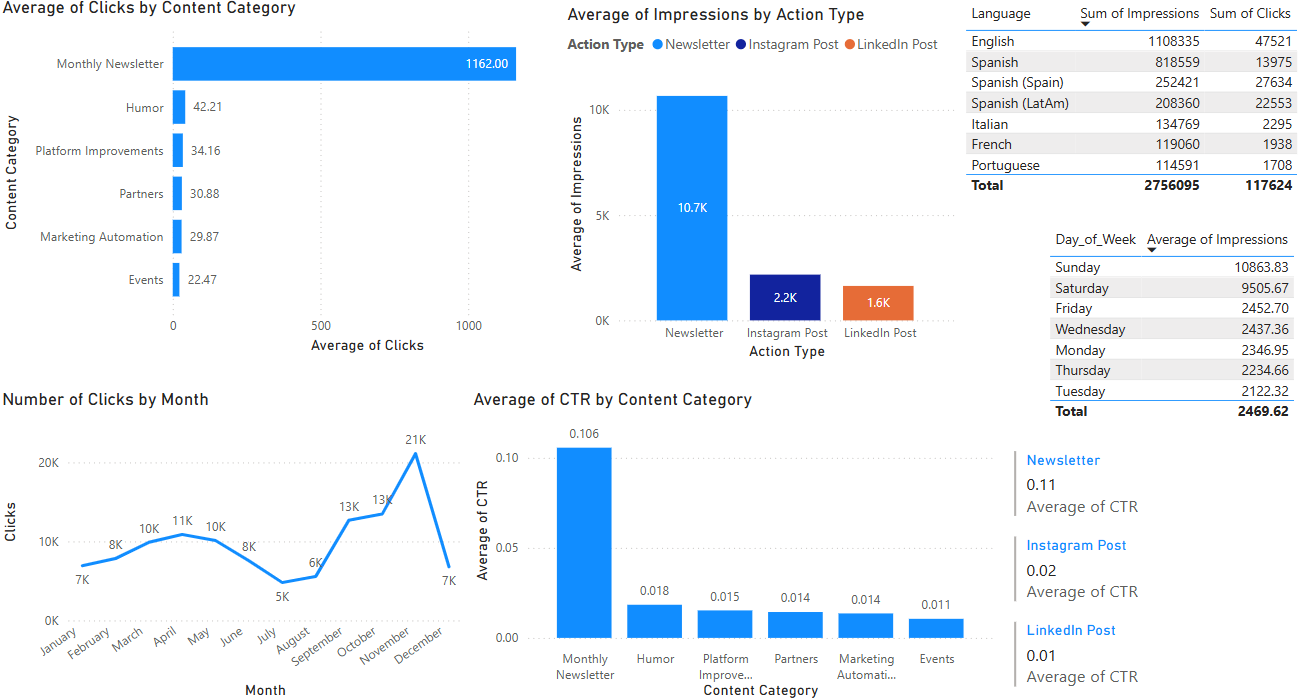

The dashboard page shown, as its layout file describes it:
{"tool":"powerbi","page":{"name":"Page 1","canvas":[1280,720],"ordinal":0},"visuals":[{"type":"barChart","title":"Average of Clicks by Content Category","fields":{"Category":["marketing_data_simulated.Content_Category"],"Y":["Avg(marketing_data_simulated.Clicks)"]},"box":[0,32.1,568,351.1],"z":0},{"type":"tableEx","fields":{"Values":["marketing_data_simulated.Day_of_Week","Avg(marketing_data_simulated.Impressions)"]},"box":[1018.4,251.9,261.6,201.3],"z":1000},{"type":"columnChart","title":"Average of Impressions by Action Type","fields":{"Category":["marketing_data_simulated.Action_Type"],"Y":["Avg(marketing_data_simulated.Impressions)"],"Series":["marketing_data_simulated.Action_Type"]},"box":[549.5,38.9,387.1,351.1],"z":2000},{"type":"lineChart","title":"Number of Clicks by Month","fields":{"Category":["marketing_data_simulated.Date.Variation.Date Hierarchy.Year","marketing_data_simulated.Date.Variation.Date Hierarchy.Quarter","marketing_data_simulated.Date.Variation.Date Hierarchy.Month","marketing_data_simulated.Date.Variation.Date Hierarchy.Day"],"Y":["Sum(marketing_data_simulated.Clicks)"]},"box":[0,413.4,458.1,306.4],"z":3000},{"type":"columnChart","title":"Average of CTR by Content Category","fields":{"Category":["marketing_data_simulated.Content_Category","marketing_data_simulated.Action_Type"],"Y":["Avg(marketing_data_simulated.CTR)"]},"box":[458.1,413.4,515.5,306.4],"z":4000},{"type":"multiRowCard","fields":{"Values":["marketing_data_simulated.Action_Type","Avg(marketing_data_simulated.CTR)"]},"box":[984.3,468.8,295.7,250.9],"z":5000},{"type":"tableEx","fields":{"Values":["marketing_data_simulated.Language","Sum(marketing_data_simulated.Impressions)","Sum(marketing_data_simulated.Clicks)"]},"box":[936.7,32.1,343.3,219.8],"z":6000}]}

Visuals, with their boxes on the page's 1280x720 design canvas (x1, y1, x2, y2). These are canvas units, not pixel positions in the 1299x700 screenshot, which may show the page scaled, cropped or inside an application window:
"Average of Clicks by Content Category" barChart: BBox(0, 32, 568, 383)
tableEx - marketing_data_simulated.Day_of_Week x Avg(marketing_data_simulated.Impressions): BBox(1018, 252, 1280, 453)
"Average of Impressions by Action Type" columnChart: BBox(550, 39, 937, 390)
"Number of Clicks by Month" lineChart: BBox(0, 413, 458, 720)
"Average of CTR by Content Category" columnChart: BBox(458, 413, 974, 720)
multiRowCard - marketing_data_simulated.Action_Type x Avg(marketing_data_simulated.CTR): BBox(984, 469, 1280, 720)
tableEx - marketing_data_simulated.Language x Sum(marketing_data_simulated.Impressions): BBox(937, 32, 1280, 252)
